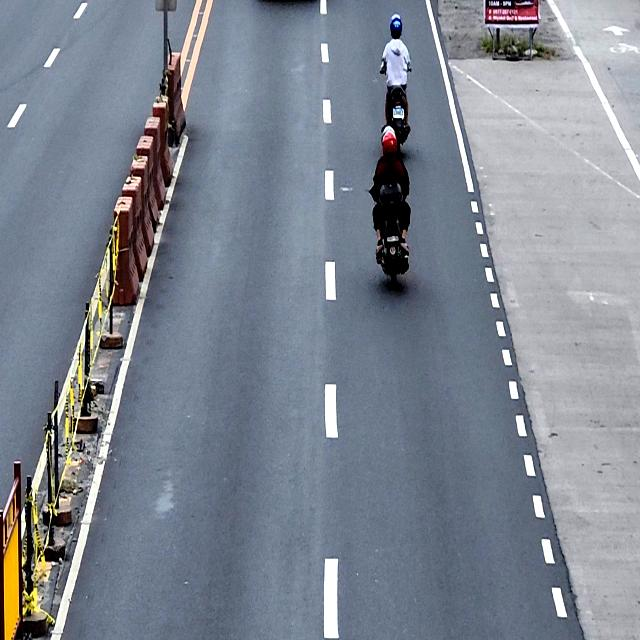License-Plate: (392, 107, 404, 119), (386, 235, 399, 242)
Motorcycle: (374, 160, 410, 291), (378, 56, 412, 156)
